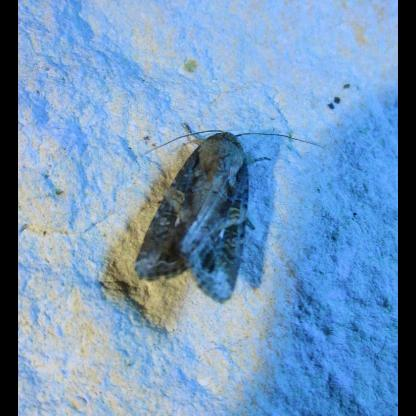Fall Armyworm Moth: (132, 127, 328, 308)
